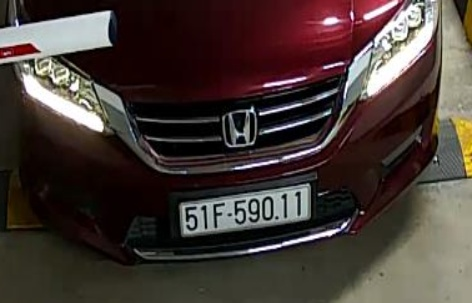plate: (163, 173, 323, 240)
